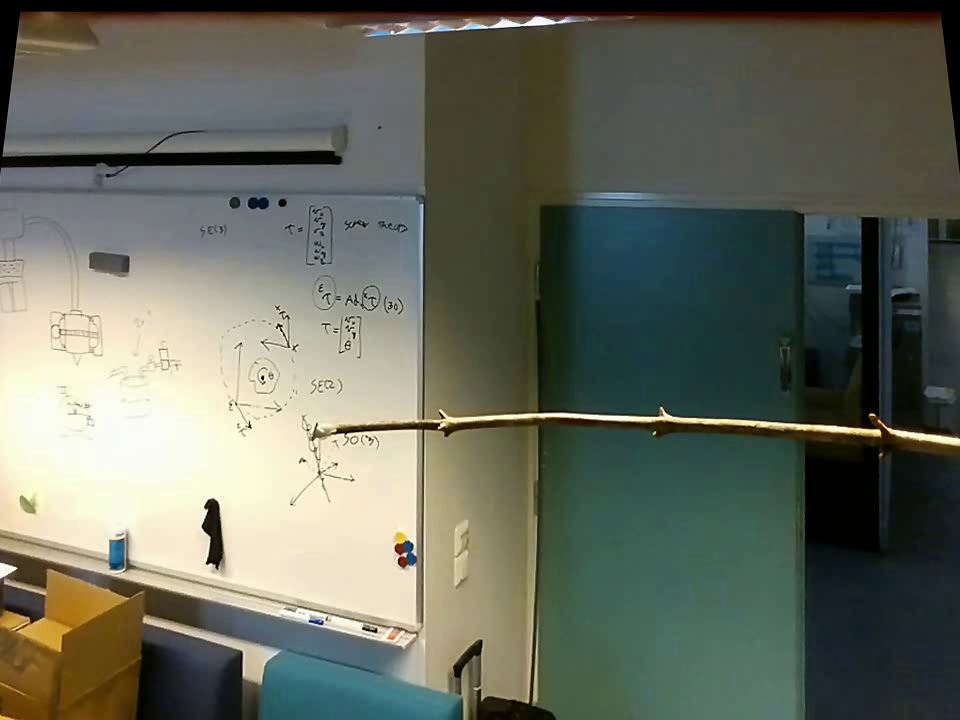aluminum_frame: (1, 527, 418, 652), (1, 179, 423, 202), (410, 189, 431, 640)
branch: (350, 398, 956, 465)
